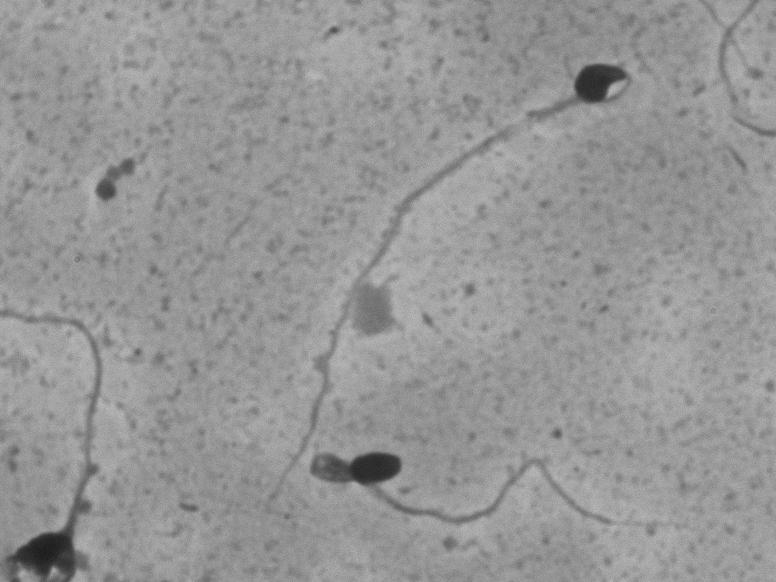Abnormal: (248, 46, 644, 520), (295, 424, 689, 545)
